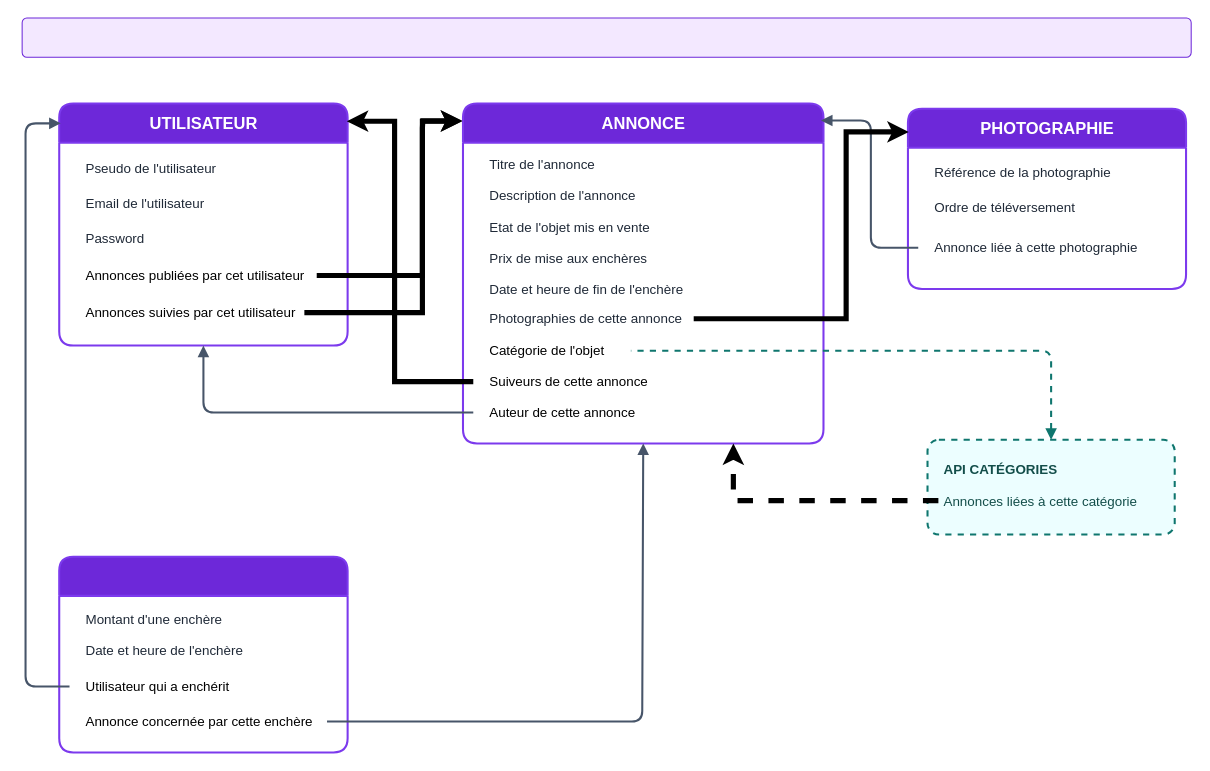
The diagram is 1210 pixels wide and 771 high, and some of its shapes have lost their labels. Here are the shapes that lost their labels. From the top down, the box of each, then its label:
(21, 17, 1191, 57): MCD — QUIDITMIEUX
(58, 555, 348, 753): ENCHERE
